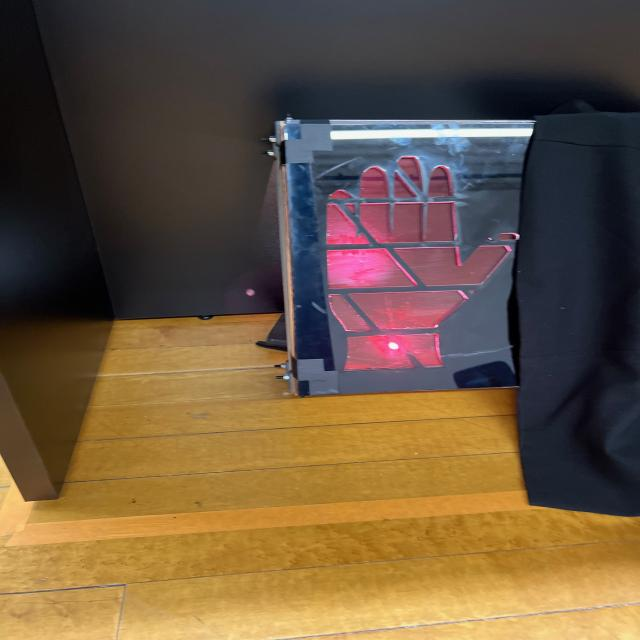stop: (278, 124, 519, 383)
